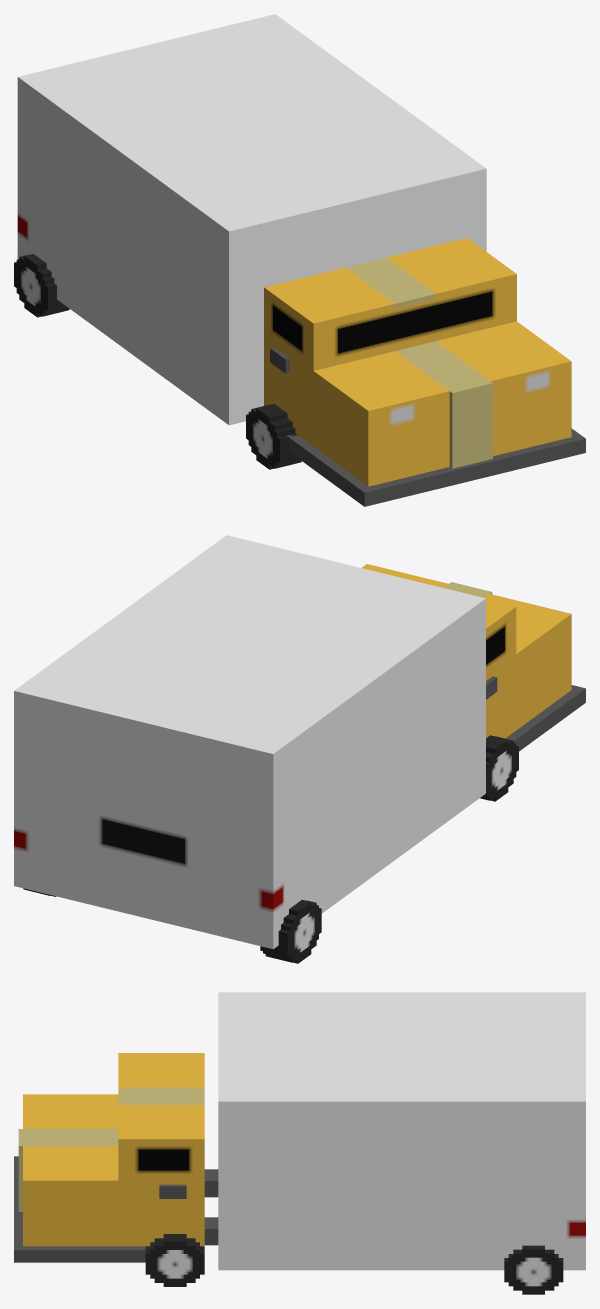
The model's file is truck_2.fbx.
The picture shows the model from 3 angles, top to bottom: view 1: azimuth 30°, elevation 25°; view 2: azimuth 150°, elevation 25°; view 3: azimuth 270°, elevation 25°; orthographic projection. The views are drawn at different scales.
Visible parts, largest first — view 1: body, back_right_wheel, back_left_wheel; view 2: body, back_left_wheel, back_right_wheel; view 3: body, front_right_wheel, front_left_wheel.
Boxes of the visible parts, x1,y1,x2,y2 form: body: (17, 14, 585, 506); back_right_wheel: (246, 404, 301, 469); back_left_wheel: (14, 254, 69, 317); body: (14, 535, 585, 949); back_left_wheel: (260, 899, 321, 963); back_right_wheel: (480, 735, 518, 801); body: (14, 992, 585, 1270); front_right_wheel: (145, 1234, 204, 1286); front_left_wheel: (504, 1245, 563, 1294).
Bounding box in the file's own units: 61 × 46 × 126.
Materials: 1 (1 with a texture image).
